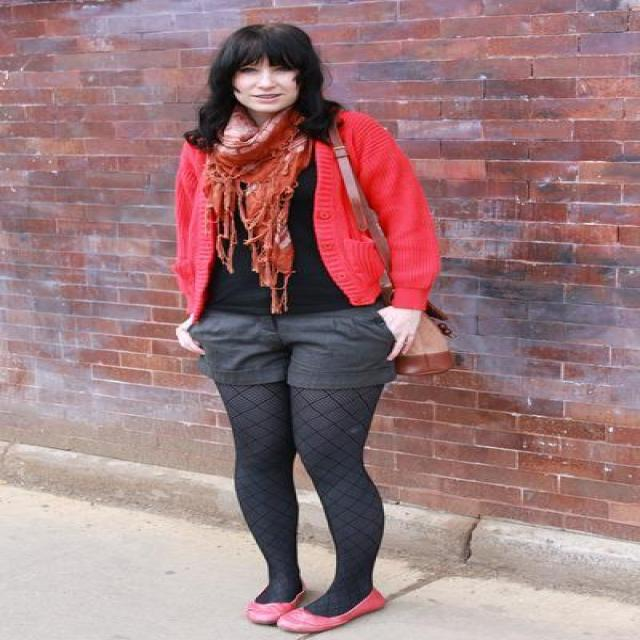bag: (288, 141, 462, 382)
jacket: (164, 111, 438, 319)
shoe: (243, 600, 288, 625)
